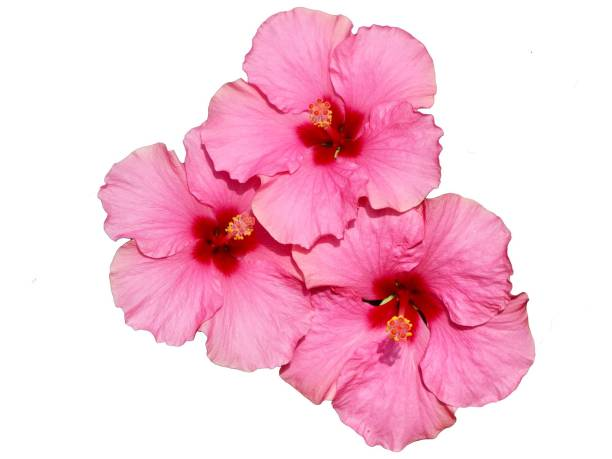Hibiscus: (286, 209, 542, 449), (197, 16, 455, 232), (97, 135, 309, 367)
